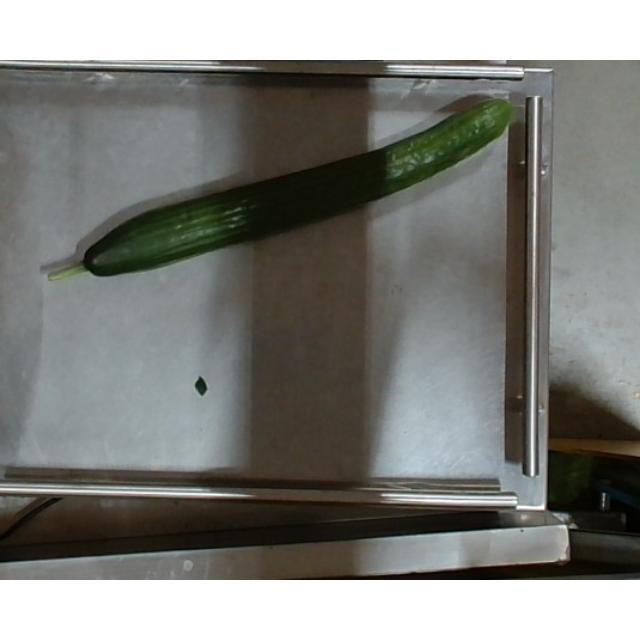cucumber: (48, 82, 512, 282)
